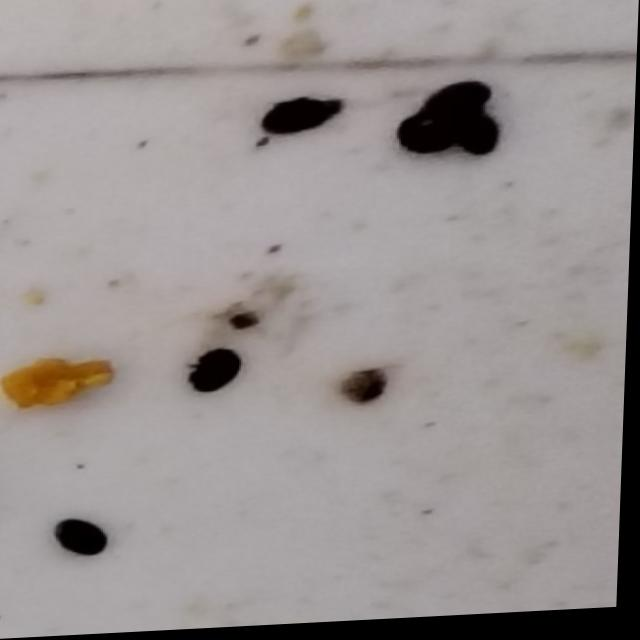varroa: (262, 101, 349, 141), (422, 83, 504, 124), (395, 119, 460, 165), (191, 352, 248, 401), (60, 517, 115, 562), (454, 118, 506, 161)
